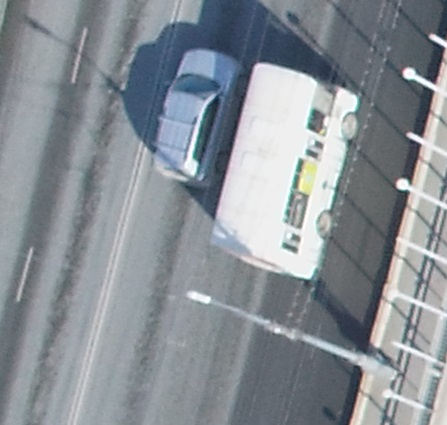opora: (182, 250, 402, 382)
